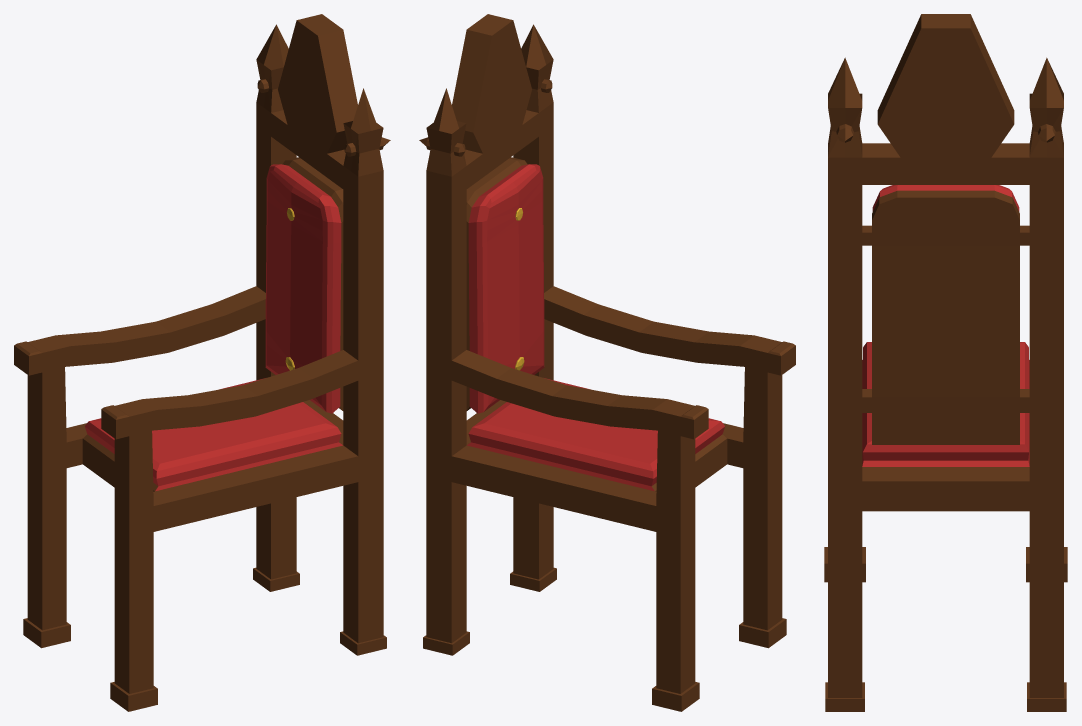
Rendered from Chair.glb.
The picture shows the model from 3 angles, left to right: view 1: azimuth 30°, elevation 25°; view 2: azimuth 150°, elevation 25°; view 3: azimuth 270°, elevation 25°; orthographic projection. The views are drawn at different scales.
Visible parts, largest first — view 1: Chair; view 2: Chair; view 3: Chair.
Boxes of the visible parts, bbox=[...] form: Chair: bbox=[14, 14, 390, 711]; Chair: bbox=[419, 14, 795, 711]; Chair: bbox=[824, 14, 1067, 711].
Bounding box in the file's own units: 6.12 × 12.2 × 3.94.
